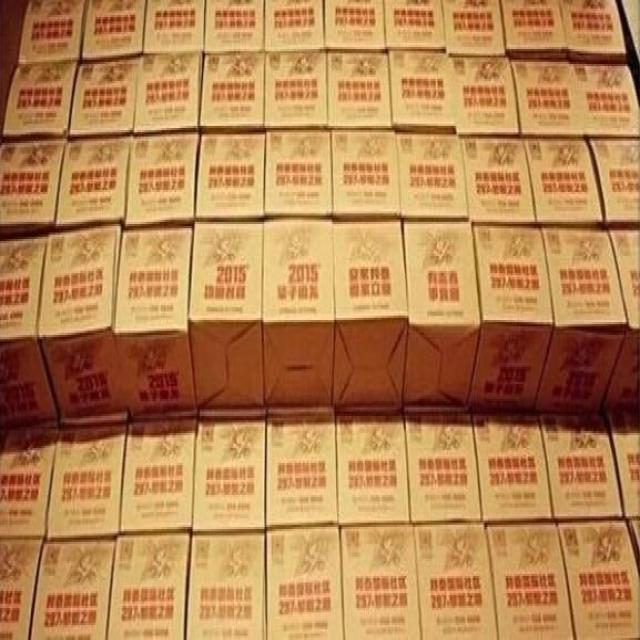box: (33, 226, 125, 429), (536, 224, 629, 414), (112, 220, 195, 427), (470, 224, 555, 412), (187, 220, 265, 422), (333, 220, 408, 420), (403, 222, 480, 414), (264, 222, 336, 420), (0, 230, 59, 431), (482, 518, 577, 640), (555, 518, 640, 640), (413, 525, 498, 640), (47, 425, 129, 544), (29, 535, 118, 640), (339, 527, 423, 638), (473, 412, 555, 525), (106, 533, 191, 640), (539, 414, 623, 521), (184, 531, 266, 640), (404, 414, 484, 525), (120, 420, 196, 535), (265, 527, 343, 638), (191, 420, 267, 531), (336, 414, 410, 527), (266, 416, 337, 529), (525, 134, 605, 228), (600, 228, 640, 412), (123, 134, 201, 224), (54, 139, 132, 228), (397, 128, 468, 222), (263, 130, 335, 222), (0, 60, 79, 143), (333, 130, 403, 222), (463, 134, 536, 222), (132, 51, 204, 139), (0, 429, 57, 538), (68, 55, 140, 141), (1, 141, 64, 239), (512, 60, 590, 139), (448, 55, 520, 139), (195, 130, 265, 215), (389, 51, 456, 139), (197, 51, 267, 134), (570, 58, 640, 139), (265, 49, 328, 134), (327, 51, 393, 132), (0, 533, 44, 640), (17, 0, 87, 66), (560, 2, 629, 66), (590, 139, 639, 228), (601, 410, 639, 518), (79, 2, 148, 60), (501, 2, 571, 58), (441, 2, 509, 58), (142, 0, 205, 60), (205, 0, 266, 55), (385, 0, 448, 53), (325, 2, 388, 53), (265, 0, 327, 51), (623, 518, 640, 576)
